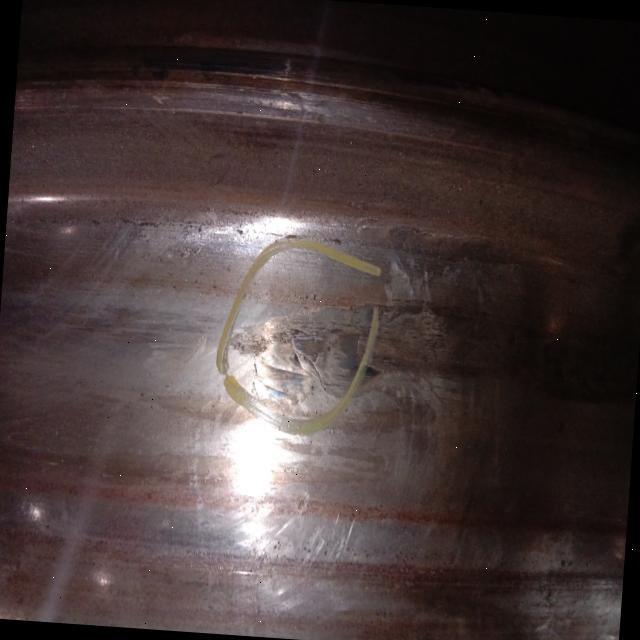flat: (240, 297, 354, 394)
